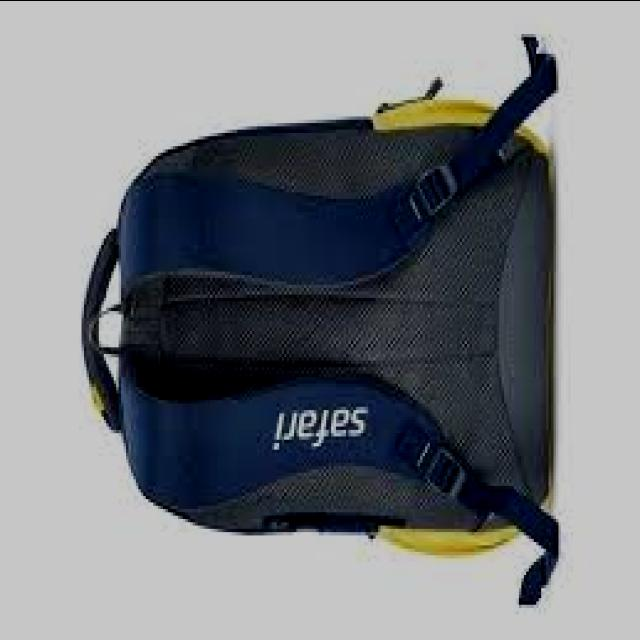backpack: (80, 38, 560, 608)
